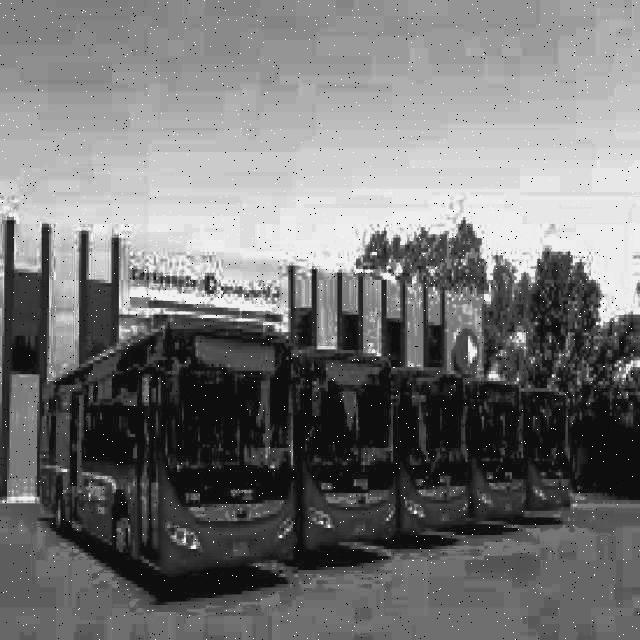Bus: (35, 329, 297, 577), (297, 346, 398, 558), (394, 364, 469, 537), (471, 376, 528, 518), (530, 392, 574, 509)
